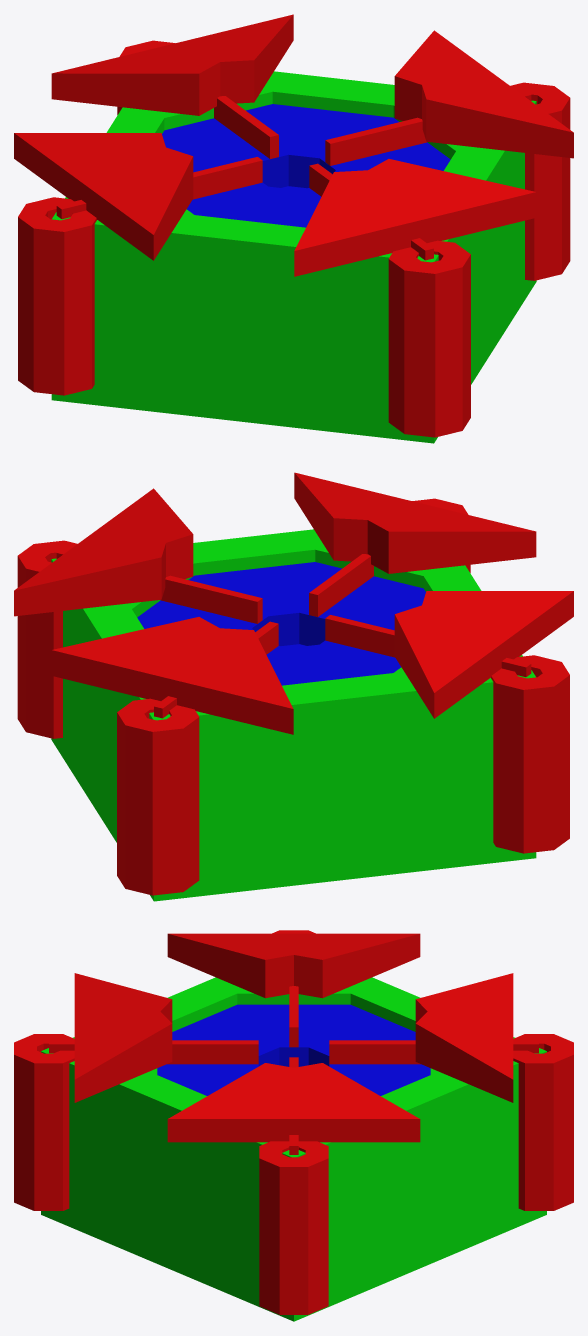
The model's file is Attacher_3.0.fbx.
3 views of the same model, one above another, from view 1: azimuth 30°, elevation 25°; view 2: azimuth 150°, elevation 25°; view 3: azimuth 270°, elevation 25° (orthographic). The views are drawn at different scales.
Visible parts, largest first — view 1: mesh_Attacher_3.0; view 2: mesh_Attacher_3.0; view 3: mesh_Attacher_3.0.
Part boxes in pixels (left/top/right/bottom): mesh_Attacher_3.0: left=14, top=14, right=573, bottom=443; mesh_Attacher_3.0: left=14, top=472, right=573, bottom=901; mesh_Attacher_3.0: left=14, top=930, right=573, bottom=1321.
Bounding box in the file's own units: 432 × 173 × 432.
